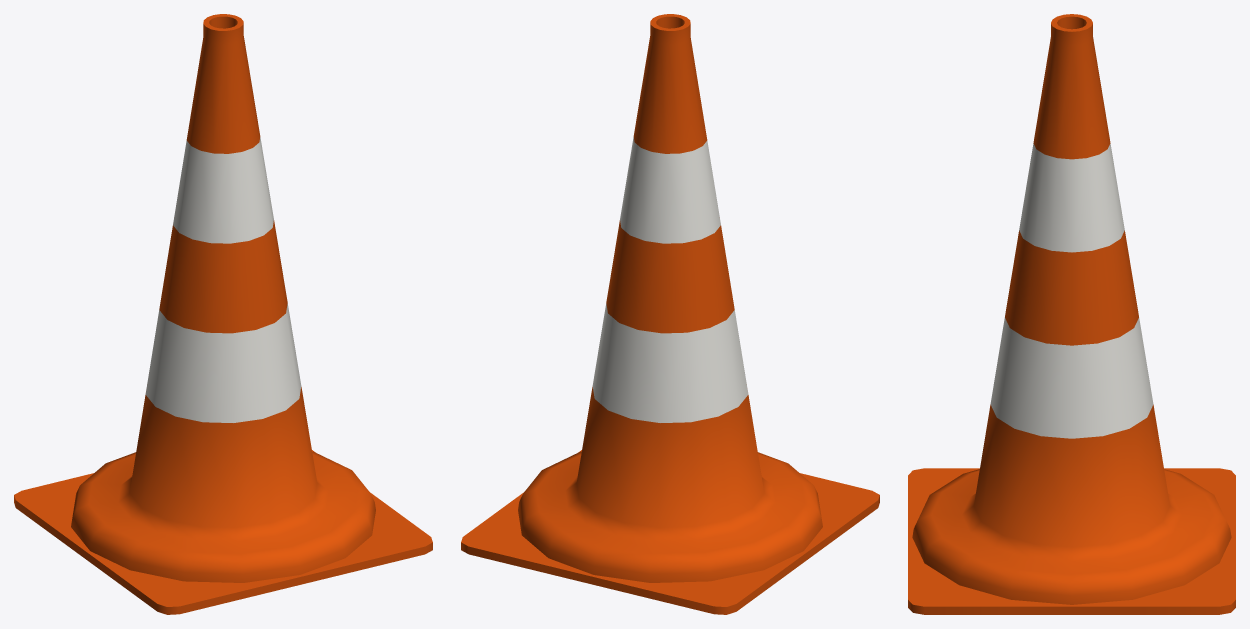
The model's file is TrafficCone_Large_Orange.gltf.
3 views of the same model, side by side, from view 1: azimuth 30°, elevation 25°; view 2: azimuth 150°, elevation 25°; view 3: azimuth 270°, elevation 25° (orthographic). The views are drawn at different scales.
Parts seen in each view (by area): view 1: TrafficCone_Large_Orange; view 2: TrafficCone_Large_Orange; view 3: TrafficCone_Large_Orange.
Boxes of the visible parts, bbox=[...] form: TrafficCone_Large_Orange: bbox=[14, 14, 432, 614]; TrafficCone_Large_Orange: bbox=[461, 14, 879, 614]; TrafficCone_Large_Orange: bbox=[908, 14, 1235, 614].
Bounding box in the file's own units: 0.29 × 0.51 × 0.29.
